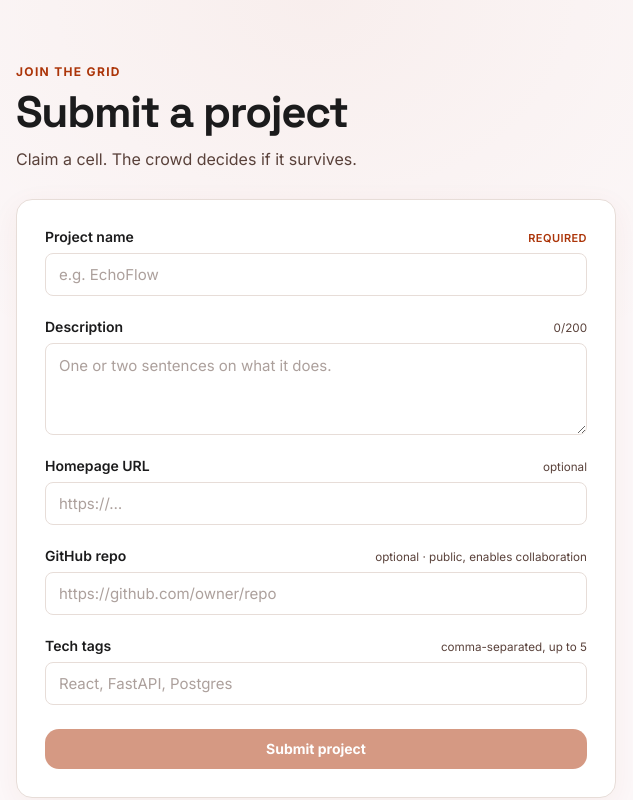
it: SubmitPage › disables submit until a name is entered
Expected: the button "Submit project" is disabled, 45,729 -> 587,769
Type "EchoFlow" into the field labelled "Project name required". click: (316, 275)
box: 45,253 -> 587,296
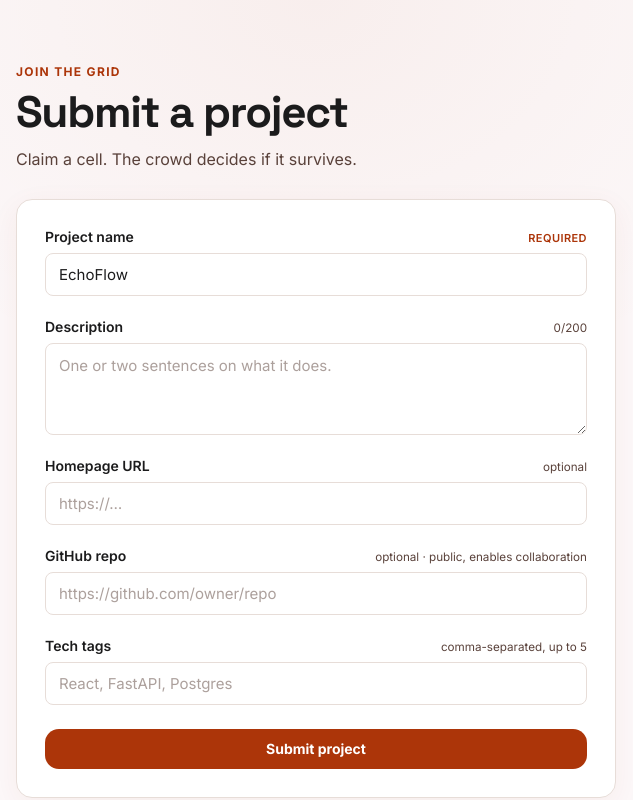
Expected: the button "Submit project" is enabled, 45,729 -> 587,769
